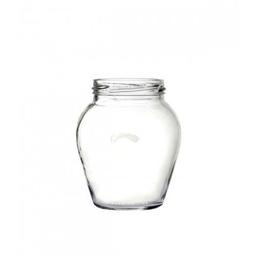glass: (63, 65, 198, 228), (213, 191, 213, 191)
